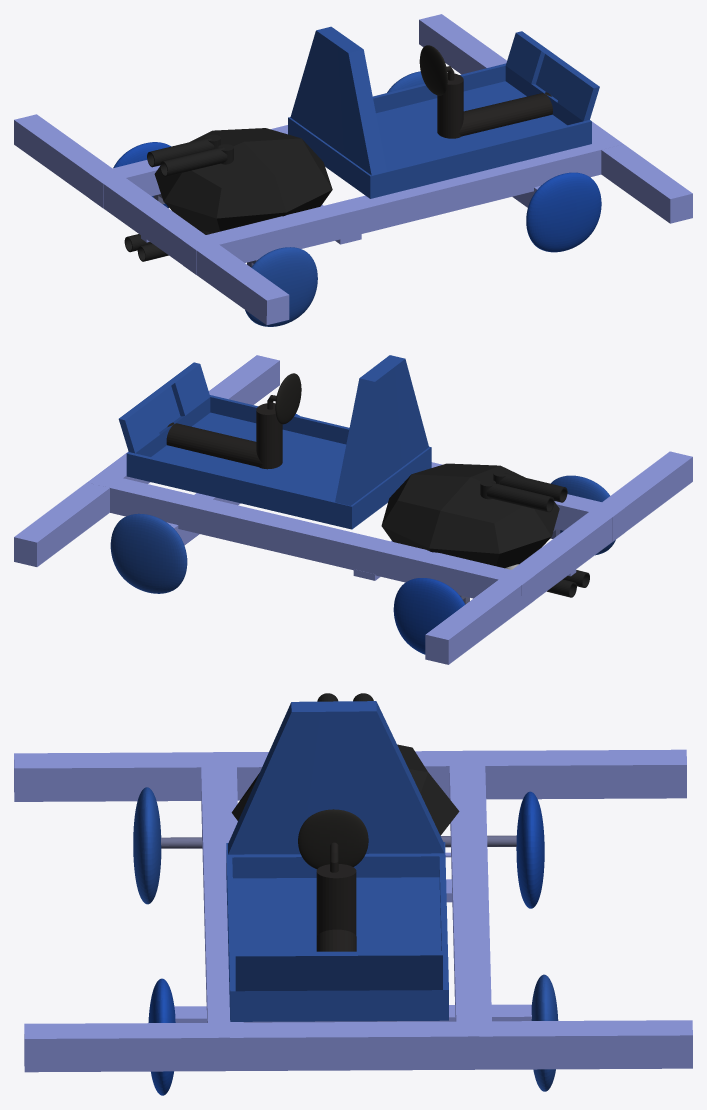
Rendered from Mentor.fbx.
3 renders of one model, top to bottom at view 1: azimuth 30°, elevation 25°; view 2: azimuth 150°, elevation 25°; view 3: azimuth 270°, elevation 25°, orthographic. The views are drawn at different scales.
Parts seen in each view (by area): view 1: Cube, Cube.008, Cube.007, Cube.001, Cube.006, Cylinder.010, Cylinder.009, Cube.009, Cylinder.005, Cylinder.006, Cube.005; view 2: Cube, Cube.008, Cube.007, Cube.004, Cube.005, Cylinder.010, Cylinder.009, Cylinder.006, Cube.009, Cube.006, Cylinder.005; view 3: Cube, Cube.008, Cube.009, Cube.005, Cube.006, Cylinder.009, Cube.007, Cube.004, Cube.001, Cylinder, Cylinder.010.
Boxes of the visible parts, x1=… form: Cube: x1=14, y1=14, x2=692, y2=324; Cube.008: x1=288, y1=26, x2=599, y2=198; Cube.007: x1=154, y1=128, x2=332, y2=233; Cube.001: x1=526, y1=172, x2=601, y2=252; Cube.006: x1=245, y1=247, x2=317, y2=326; Cylinder.010: x1=459, y1=92, x2=552, y2=136; Cylinder.009: x1=437, y1=73, x2=463, y2=138; Cube.009: x1=419, y1=45, x2=447, y2=95; Cylinder.005: x1=160, y1=147, x2=227, y2=176; Cylinder.006: x1=147, y1=137, x2=214, y2=167; Cube.005: x1=113, y1=142, x2=170, y2=208; Cube: x1=14, y1=355, x2=692, y2=664; Cube.008: x1=118, y1=355, x2=431, y2=529; Cube.007: x1=381, y1=463, x2=559, y2=568; Cube.004: x1=110, y1=513, x2=187, y2=593; Cube.005: x1=393, y1=578, x2=465, y2=654; Cylinder.010: x1=166, y1=422, x2=262, y2=466; Cylinder.009: x1=256, y1=403, x2=282, y2=469; Cylinder.006: x1=486, y1=482, x2=554, y2=512; Cube.009: x1=275, y1=373, x2=301, y2=424; Cube.006: x1=551, y1=475, x2=615, y2=555; Cylinder.005: x1=500, y1=473, x2=567, y2=502; Cube: x1=14, y1=749, x2=692, y2=1072; Cube.008: x1=226, y1=701, x2=448, y2=1021; Cube.009: x1=298, y1=809, x2=368, y2=869; Cube.005: x1=516, y1=791, x2=544, y2=908; Cube.006: x1=133, y1=787, x2=161, y2=904; Cylinder.009: x1=316, y1=864, x2=356, y2=937; Cube.007: x1=231, y1=744, x2=459, y2=835; Cube.004: x1=531, y1=974, x2=558, y2=1091; Cube.001: x1=148, y1=978, x2=175, y2=1095; Cylinder: x1=161, y1=835, x2=516, y2=848; Cylinder.010: x1=316, y1=929, x2=356, y2=951.
Bounding box in the file's own units: 383 × 170 × 378.
